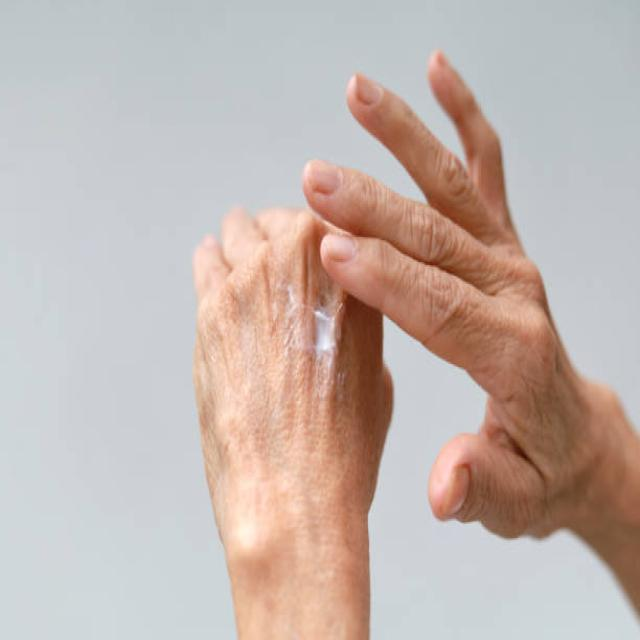Dry-Skin: (191, 284, 314, 604)
